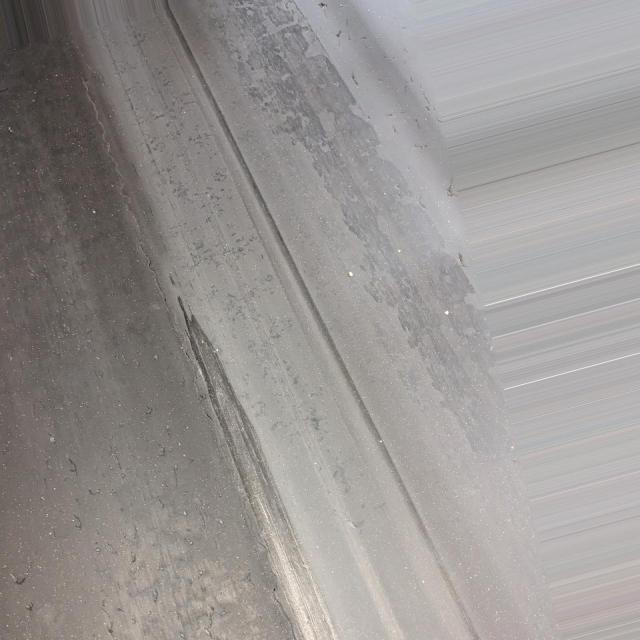Wear: (171, 292, 339, 639)
